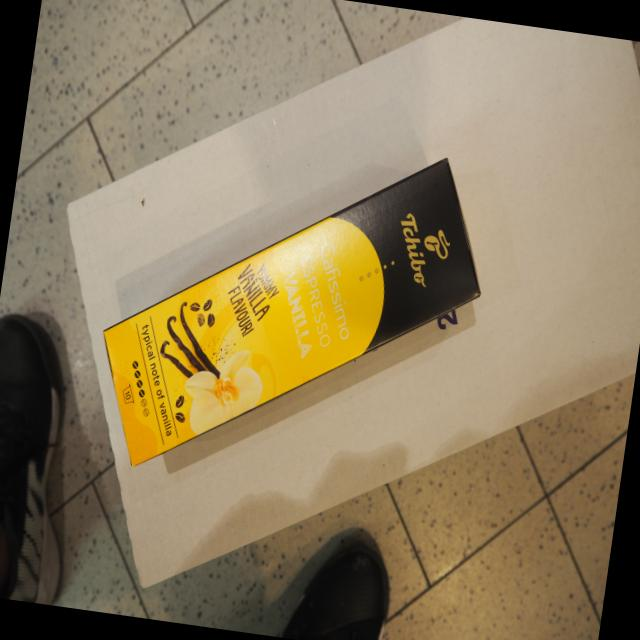Simo Es Vanilla: (95, 156, 485, 476)
